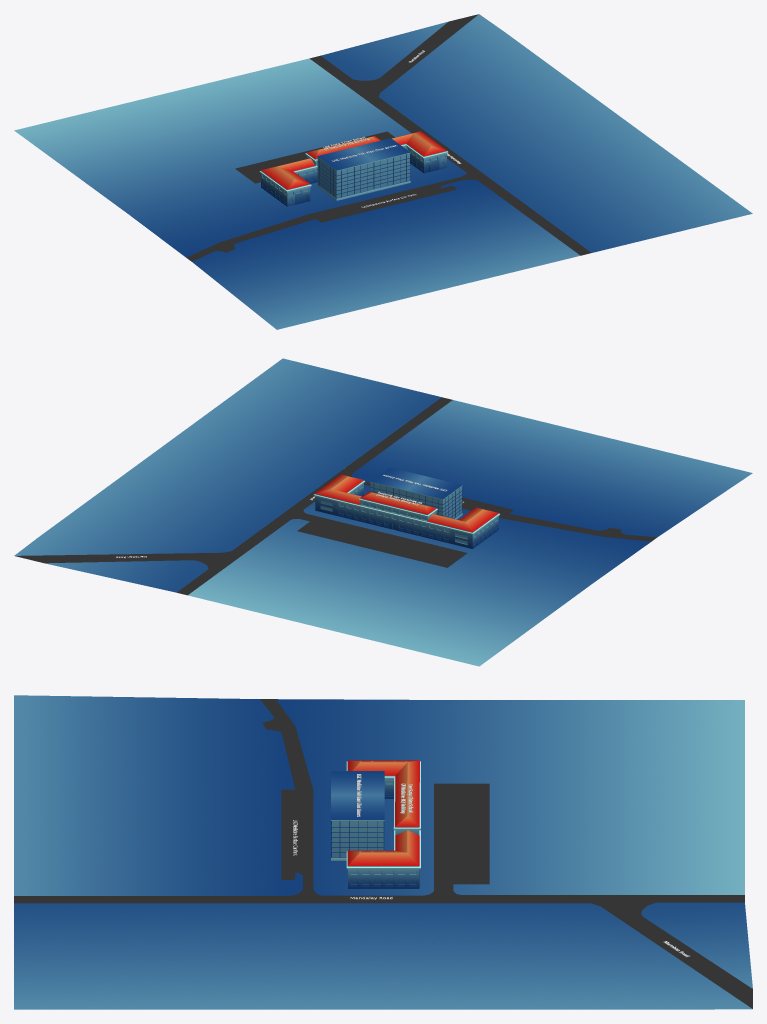
Rendered from building4.gltf.
3 renders of one model, top to bottom at view 1: azimuth 30°, elevation 25°; view 2: azimuth 150°, elevation 25°; view 3: azimuth 270°, elevation 25°, orthographic. The views are drawn at different scales.
Parts seen in each view (by area): view 1: building; view 2: building; view 3: building.
Boxes of the visible parts, bbox=[...] form: building: bbox=[14, 14, 752, 329]; building: bbox=[14, 358, 752, 666]; building: bbox=[14, 695, 752, 1009].
Bounding box in the file's own units: 104 × 6.5 × 103.
Materials: 4 (1 with a texture image).
